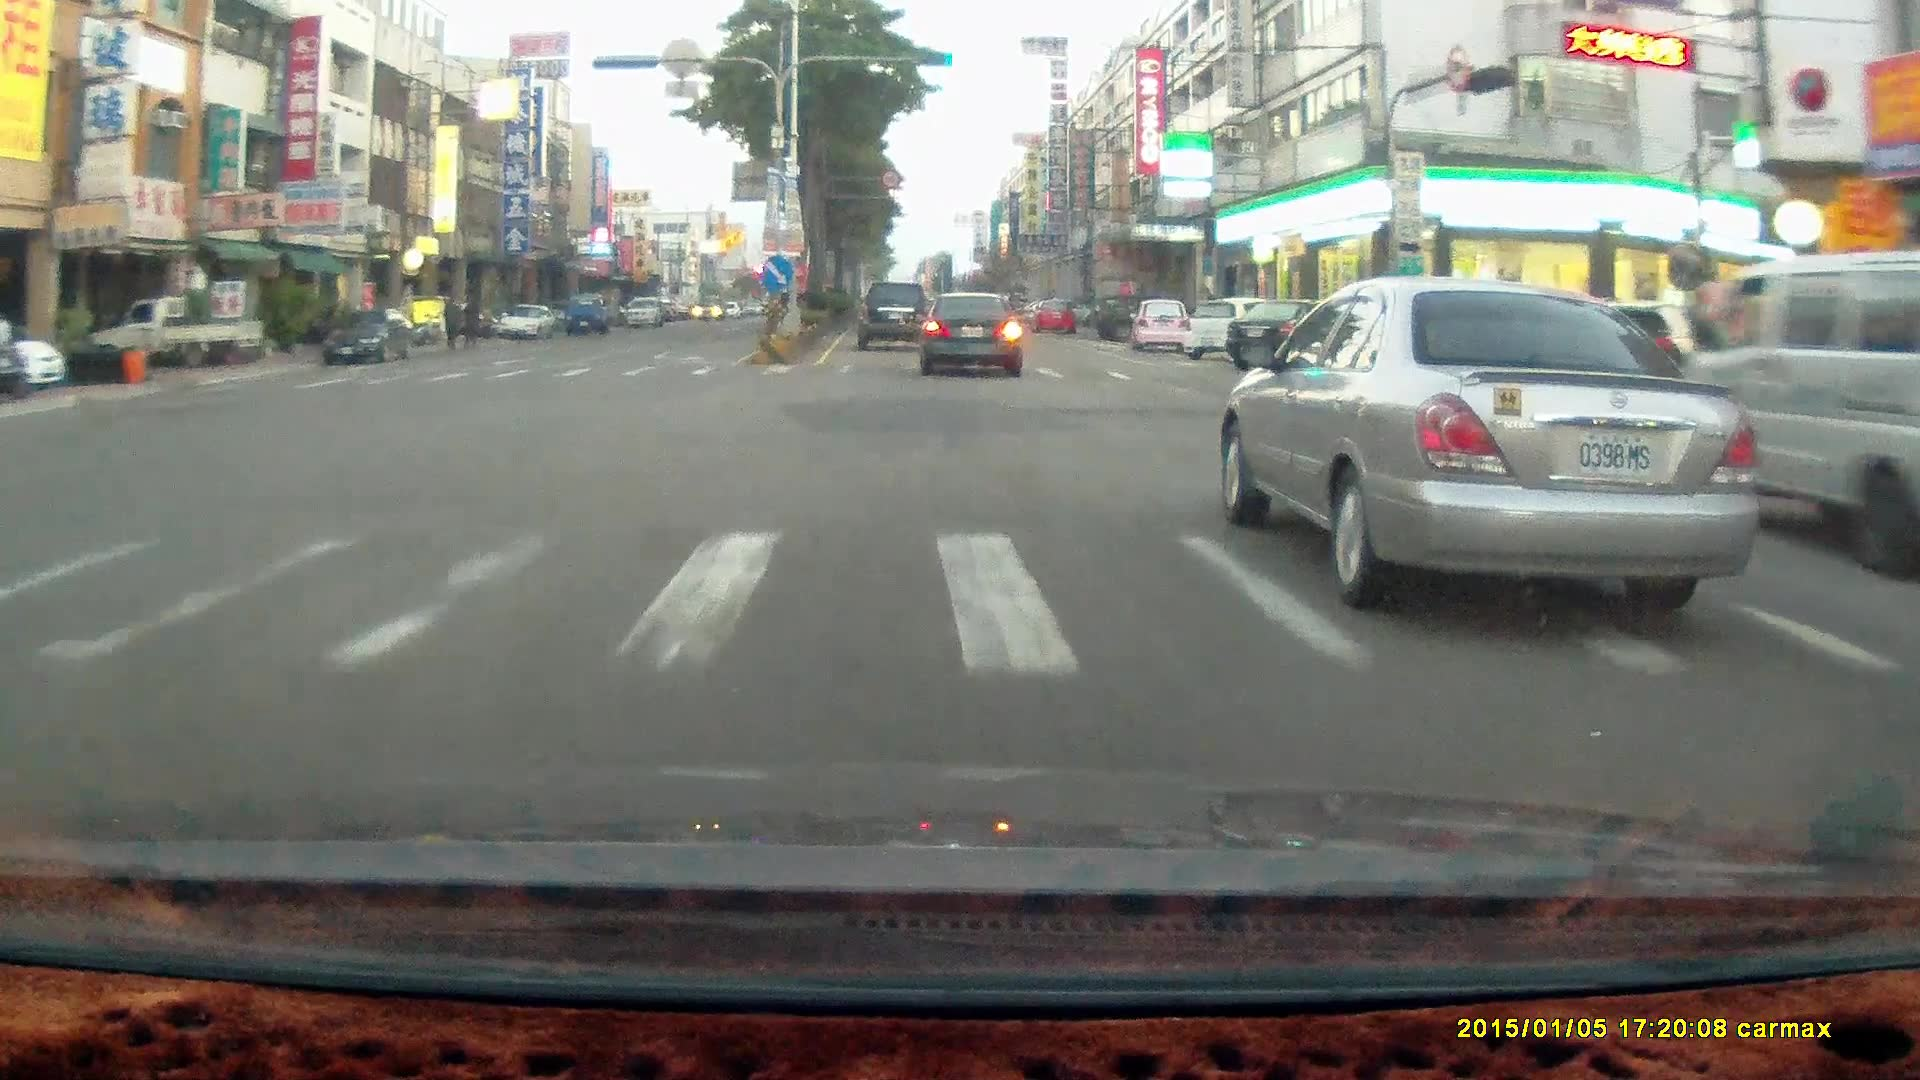pedestrian: (462, 281, 487, 346), (441, 288, 463, 348), (460, 293, 481, 351), (440, 289, 460, 350)
vehicle: (1226, 284, 1763, 604), (1676, 250, 1920, 579), (1672, 253, 1920, 547), (93, 292, 260, 378), (86, 293, 262, 371), (1224, 293, 1357, 366), (922, 292, 1028, 379), (1227, 297, 1350, 370), (920, 288, 1022, 375), (1186, 294, 1289, 359), (316, 303, 421, 366), (860, 277, 934, 353), (855, 279, 931, 350), (321, 310, 413, 364), (1126, 296, 1191, 352), (1094, 290, 1166, 338), (1134, 299, 1194, 355), (496, 303, 559, 342), (562, 294, 611, 336), (496, 303, 554, 338), (563, 290, 605, 333), (1032, 294, 1077, 331), (0, 333, 24, 396), (623, 294, 663, 326)
